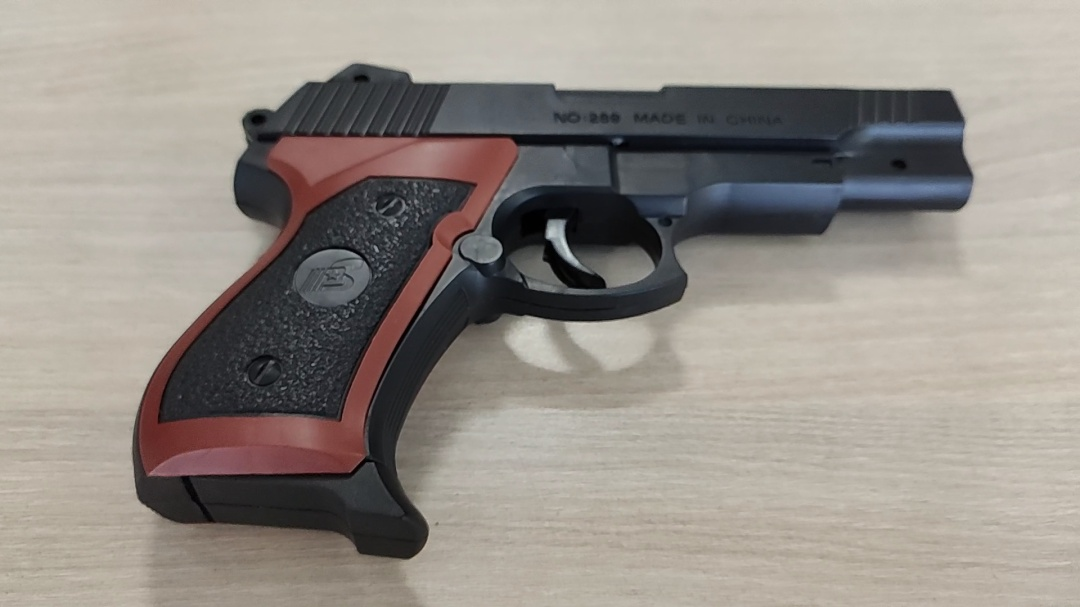gun: (606, 239, 758, 322)
